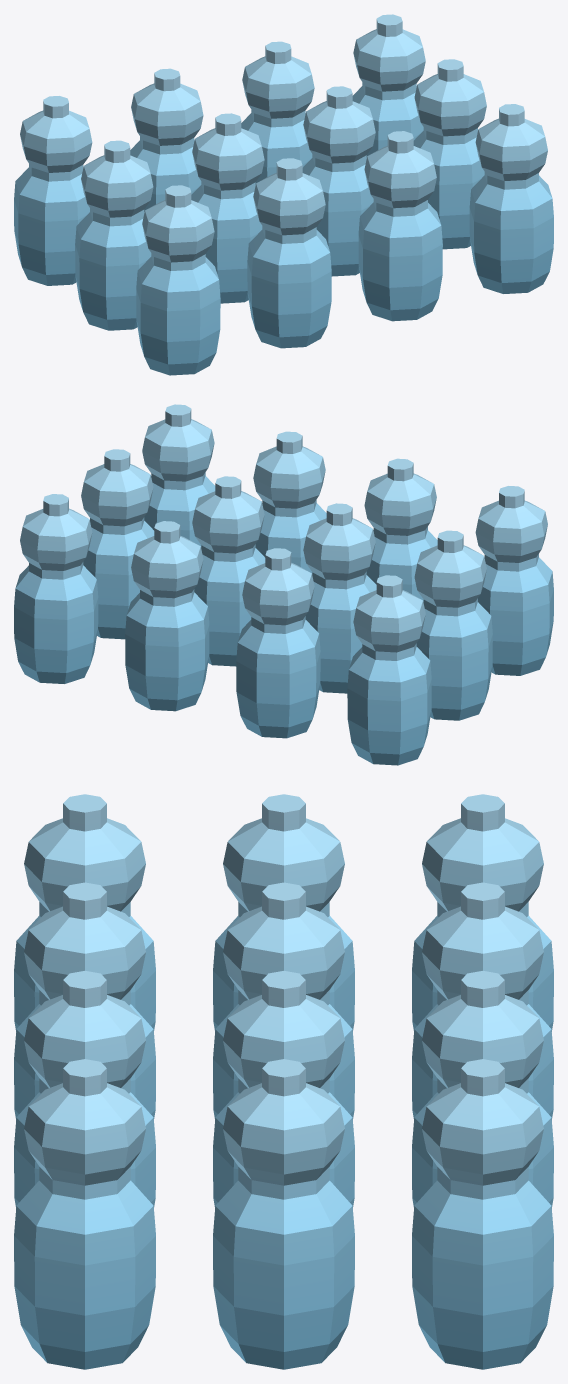
The model's file is bottles.fbx.
The picture shows the model from 3 angles, top to bottom: view 1: azimuth 30°, elevation 25°; view 2: azimuth 150°, elevation 25°; view 3: azimuth 270°, elevation 25°; orthographic projection. The views are drawn at different scales.
Visible parts, largest first — view 1: bottles; view 2: bottles; view 3: bottles.
Boxes of the visible parts, x1,y1,x2,y2 form: bottles: (14, 14, 553, 375); bottles: (14, 404, 553, 765); bottles: (14, 794, 553, 1369).
Size of the model in its own units: 331 by 137 by 232.
1 material, 1 textured.
